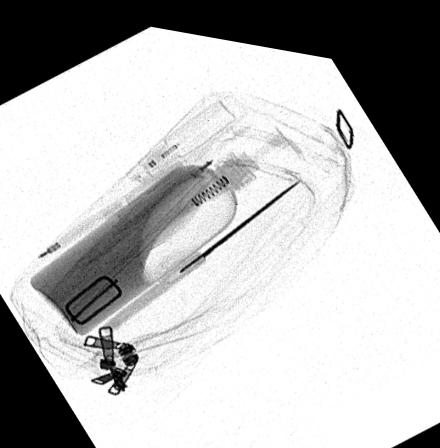Knife: (99, 169, 301, 329)
